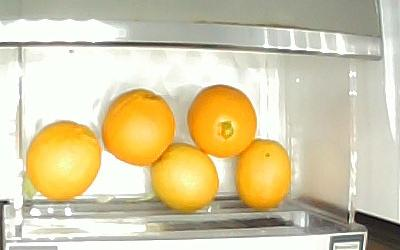orange: (25, 120, 102, 201), (102, 89, 175, 166), (186, 84, 257, 158), (151, 144, 219, 212), (233, 139, 290, 210)
